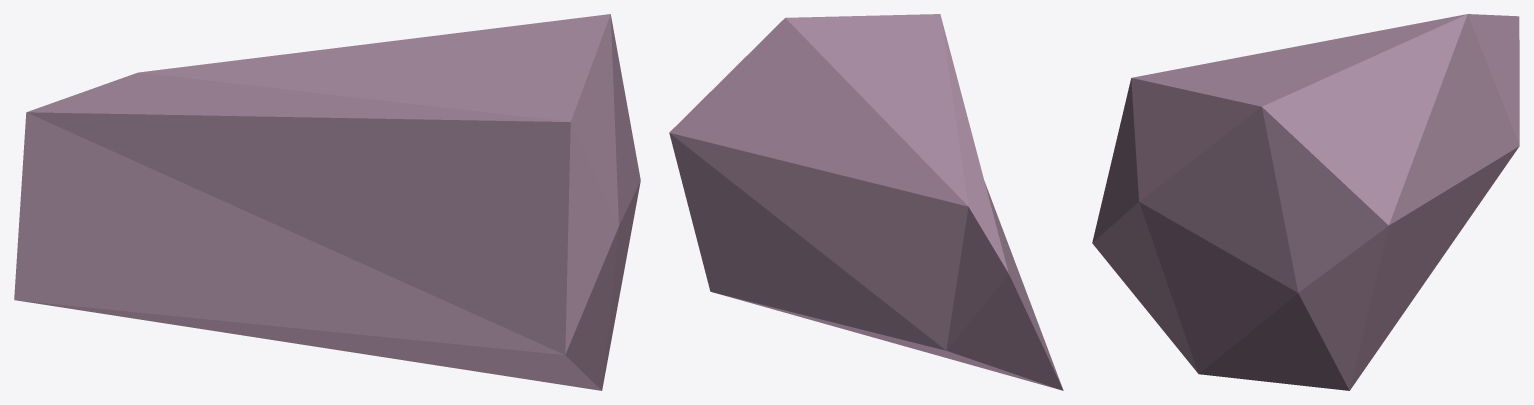
Rendered from Final_Monster_Evidence4.fbx.
3 renders of one model, left to right at view 1: azimuth 30°, elevation 25°; view 2: azimuth 150°, elevation 25°; view 3: azimuth 270°, elevation 25°, orthographic. The views are drawn at different scales.
Parts seen in each view (by area): view 1: pPlatonic1; view 2: pPlatonic1; view 3: pPlatonic1.
Part boxes in pixels (x1,y1,x2,y2): pPlatonic1: (14, 14, 640, 390); pPlatonic1: (669, 14, 1063, 390); pPlatonic1: (1092, 14, 1519, 390).
Size of the model in its own units: 9.39 by 5.59 by 7.57.
